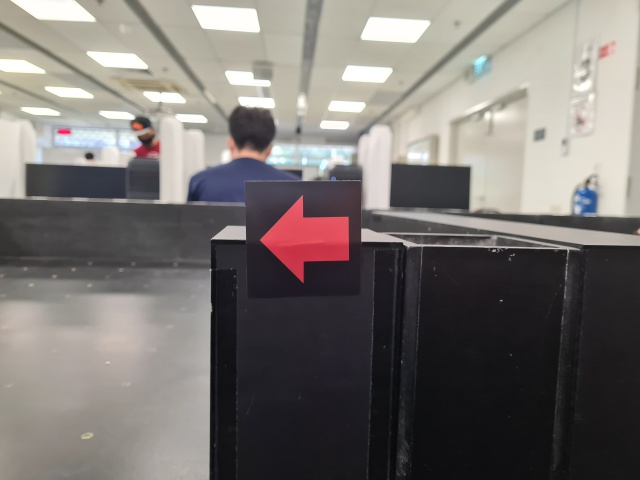left_arrow: (245, 180, 362, 300)
